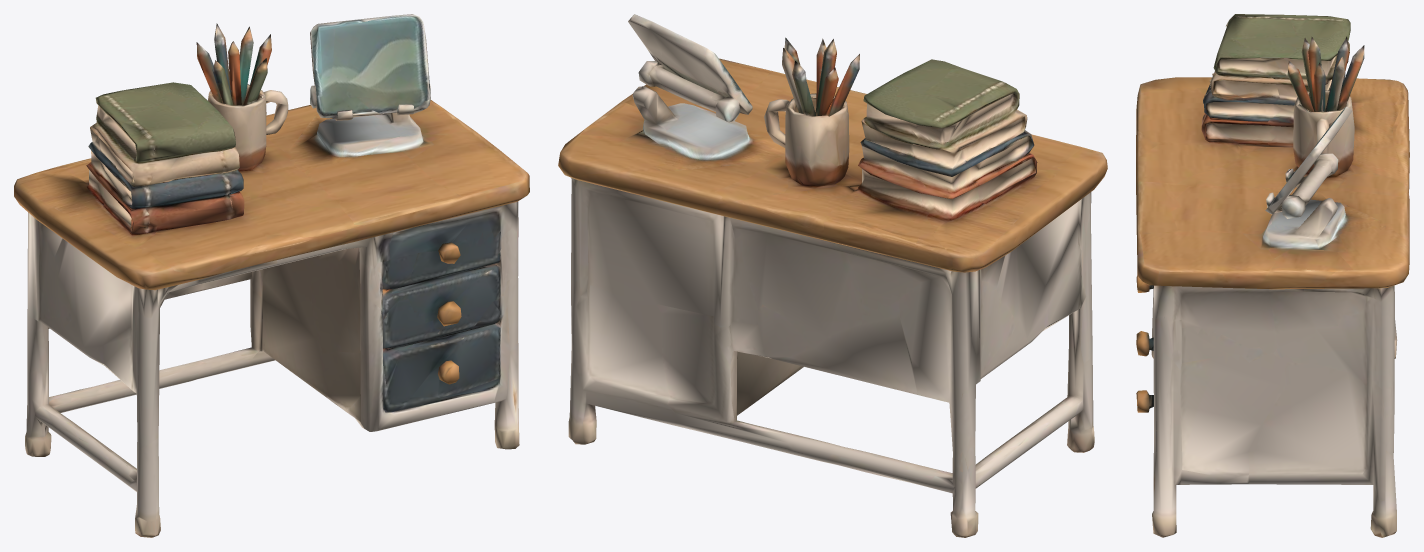
Rendered from teacher-desk.low.glb.
The picture shows the model from 3 angles, left to right: view 1: azimuth 30°, elevation 25°; view 2: azimuth 150°, elevation 25°; view 3: azimuth 270°, elevation 25°; orthographic projection. The views are drawn at different scales.
Visible parts, largest first — view 1: tripo_node_ec777724-02c2-4702-8629-febdb65ed086; view 2: tripo_node_ec777724-02c2-4702-8629-febdb65ed086; view 3: tripo_node_ec777724-02c2-4702-8629-febdb65ed086.
Boxes of the visible parts, <box> form: tripo_node_ec777724-02c2-4702-8629-febdb65ed086: <box>14,14,529,537</box>; tripo_node_ec777724-02c2-4702-8629-febdb65ed086: <box>558,14,1107,537</box>; tripo_node_ec777724-02c2-4702-8629-febdb65ed086: <box>1136,14,1409,537</box>.
Bounding box in the file's own units: 0.8075 × 0.7588 × 0.4705.
Materials: 1 (1 with a texture image).
